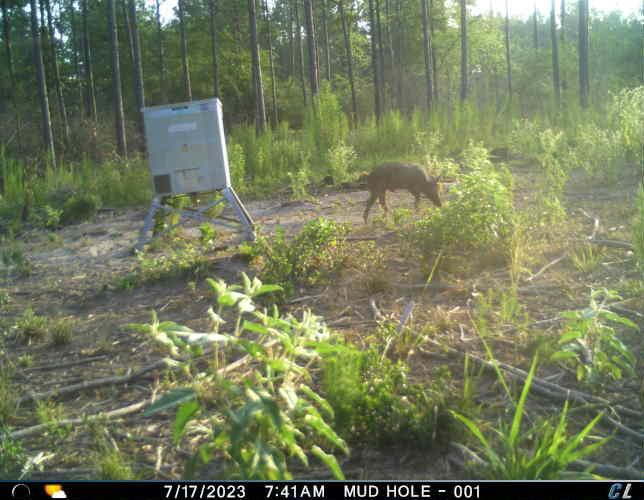Hog: (362, 160, 444, 223)
